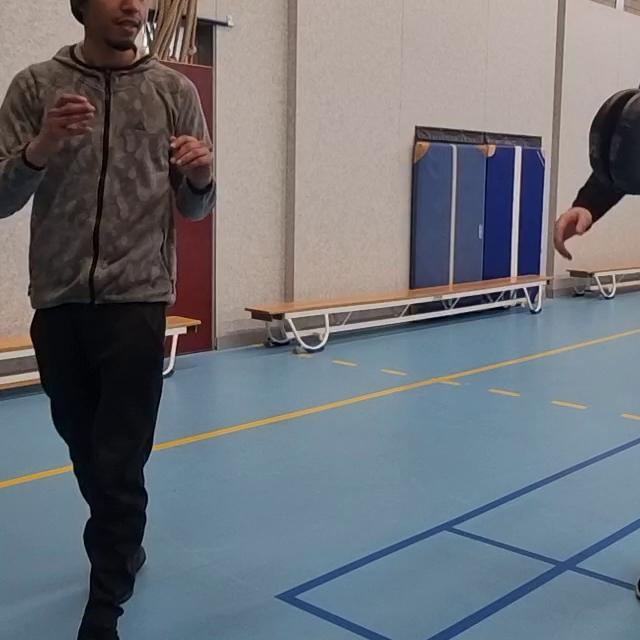paddle: (586, 86, 640, 200)
